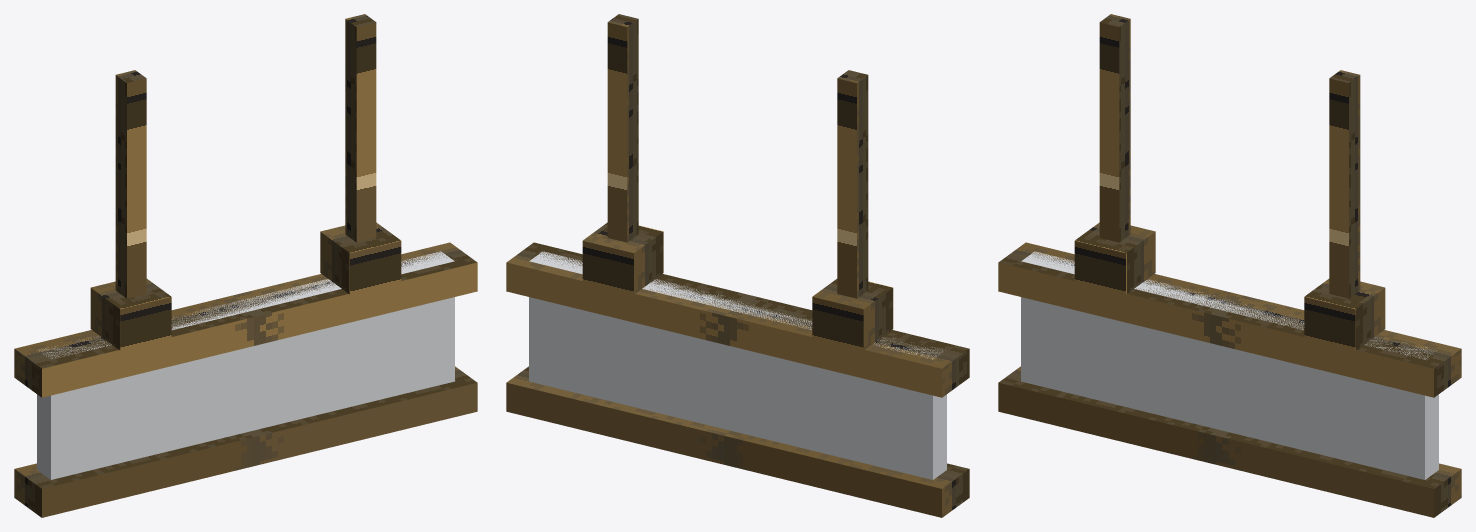
Rendered from nav_hanger.glb.
3 views of the same model, side by side, from view 1: azimuth 30°, elevation 25°; view 2: azimuth 150°, elevation 25°; view 3: azimuth 330°, elevation 25° (orthographic).
Parts seen in each view (by area): view 1: nav_hanger; view 2: nav_hanger; view 3: nav_hanger.
Part boxes in pixels (<box>): nav_hanger: <box>14,14,477,517</box>; nav_hanger: <box>506,14,969,517</box>; nav_hanger: <box>998,14,1461,517</box>.
Bounding box in the file's own units: 1.1 × 0.98 × 0.13.
Materials: 7 (6 with a texture image).
